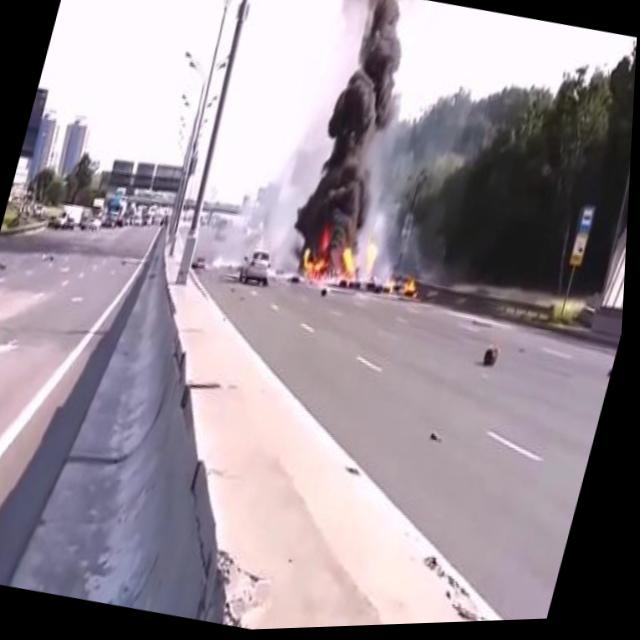fire: (299, 226, 389, 296), (385, 268, 423, 300)
